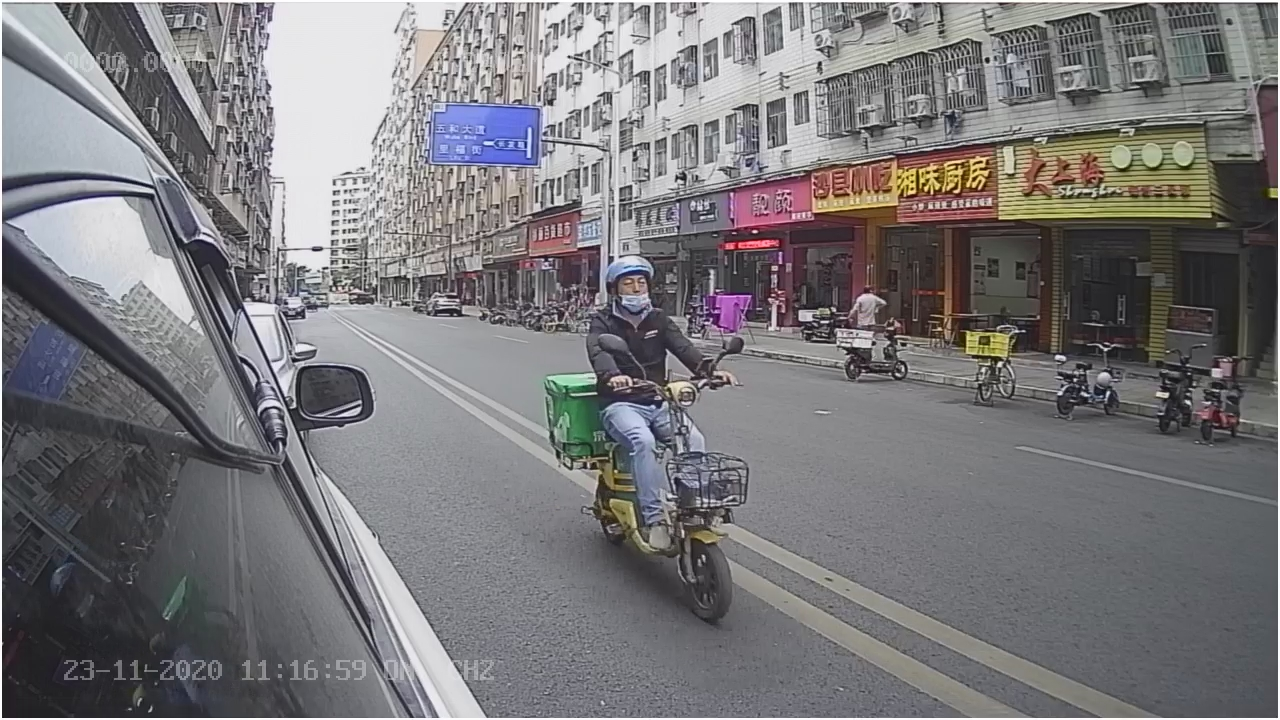person: (581, 254, 739, 394)
